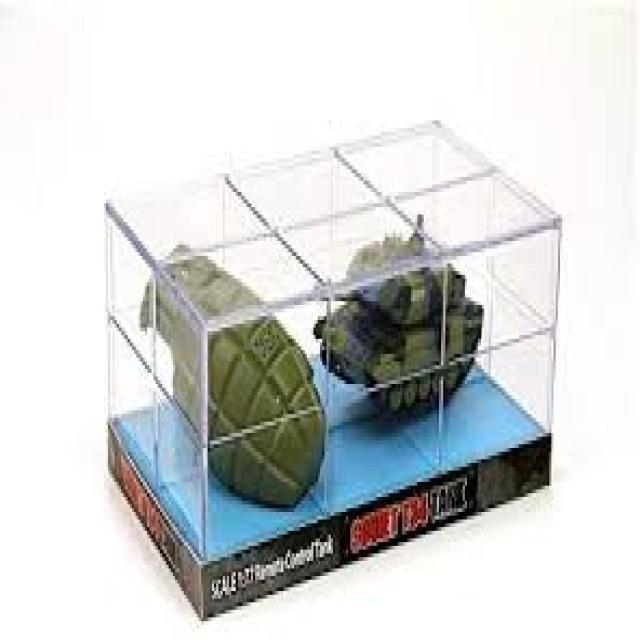grenade: (139, 245, 331, 513)
